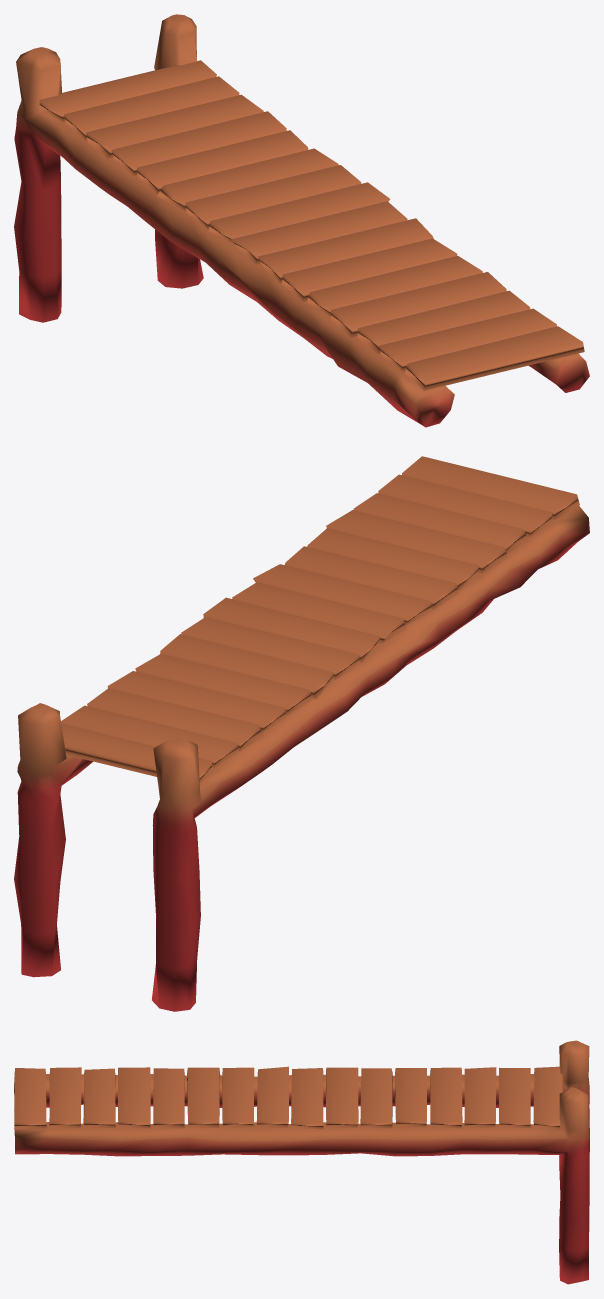
File: dock_jank.glb
The picture shows the model from 3 angles, top to bottom: view 1: azimuth 30°, elevation 25°; view 2: azimuth 150°, elevation 25°; view 3: azimuth 270°, elevation 25°; orthographic projection. The views are drawn at different scales.
Parts seen in each view (by area): view 1: Dock, Supports; view 2: Dock, Supports; view 3: Dock, Supports.
Boxes of the visible parts, bbox=[...] form: Dock: bbox=[39, 60, 584, 390]; Supports: bbox=[14, 14, 589, 427]; Dock: bbox=[61, 456, 579, 783]; Supports: bbox=[14, 506, 589, 1011]; Dock: bbox=[14, 1066, 562, 1129]; Supports: bbox=[14, 1040, 589, 1284].
Bounding box in the file's own units: 2.41 × 3.27 × 9.16.
1 material, 1 textured.
